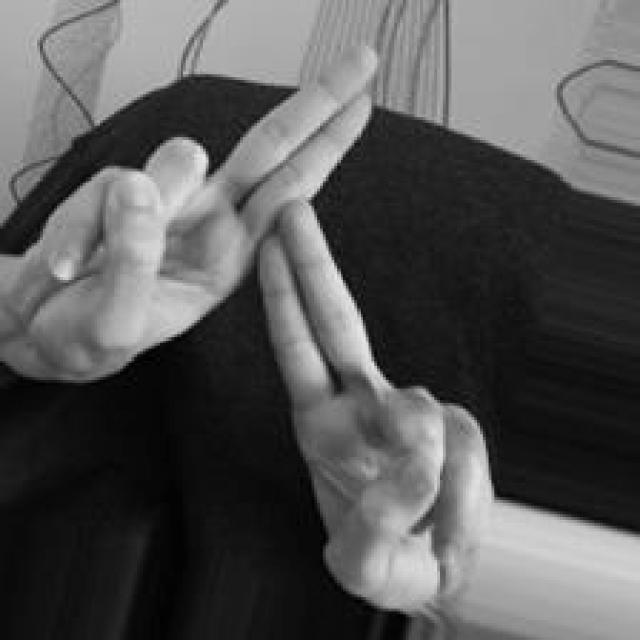K: (1, 42, 492, 640)
